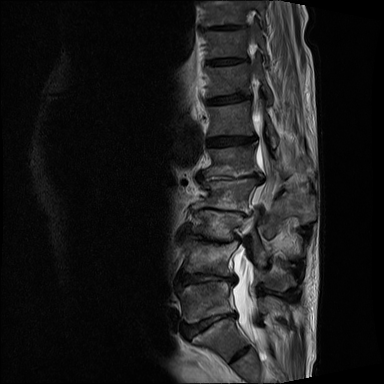Degenerative Disc Disease DDD: (177, 307, 244, 346), (196, 167, 268, 190), (203, 126, 260, 154), (196, 86, 256, 110), (179, 229, 244, 249), (190, 202, 254, 220), (196, 54, 253, 69), (199, 24, 249, 34)
Lumbar Disc Bulge LDB: (168, 266, 244, 297)
Spinal Stenosis SS: (228, 226, 257, 253), (251, 158, 274, 189), (221, 264, 244, 292), (226, 302, 243, 324), (240, 204, 261, 221), (252, 124, 264, 150)
Spondylolisthesis: (168, 223, 252, 270), (181, 197, 256, 234)
